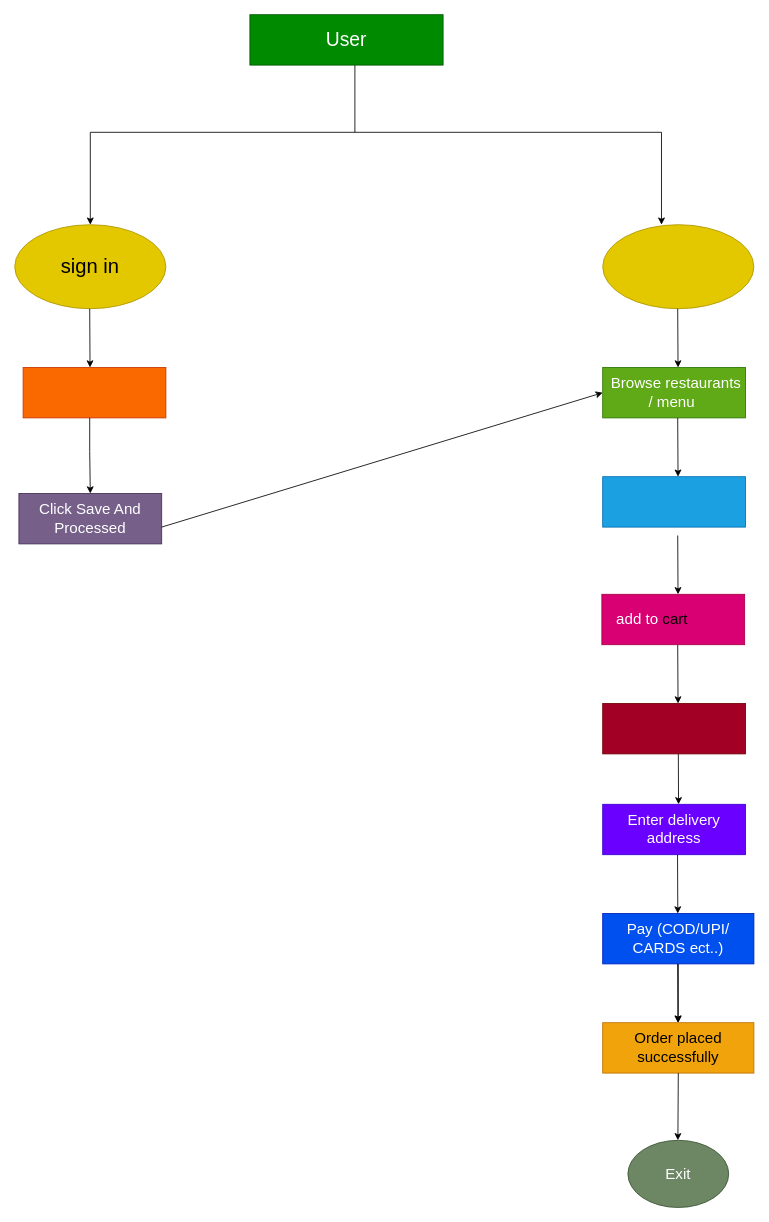
The diagram is 769 pixels wide and 1222 high, and some of its shapes have lost their labels. The centre of each missing label's shape, as x and y in pixels:
"Enter Your Details" belongs at (94,392).
"Login" belongs at (678,266).
"Review cart & proceed to checkout" belongs at (674,728).
"Select food items" belongs at (674,501).
